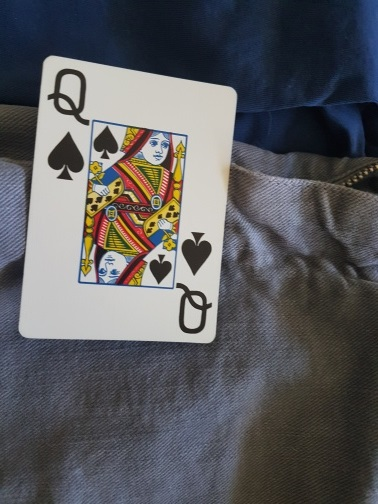queen: (17, 55, 237, 342)
